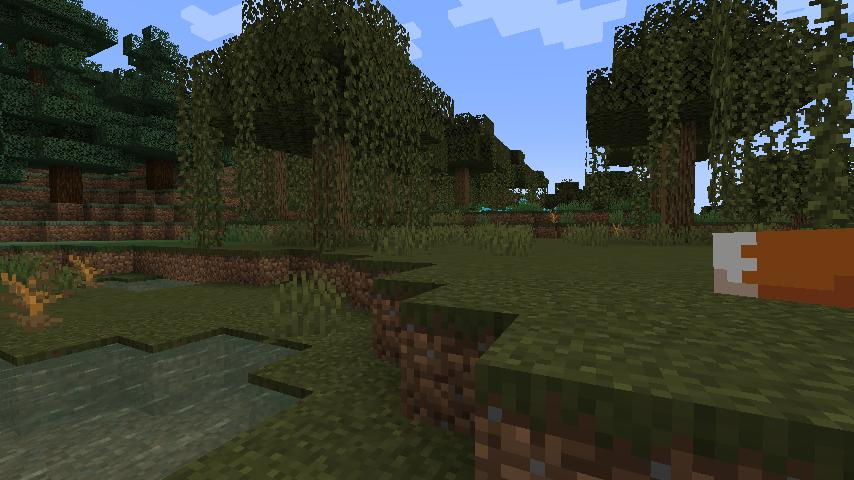fox: (706, 224, 854, 313)
